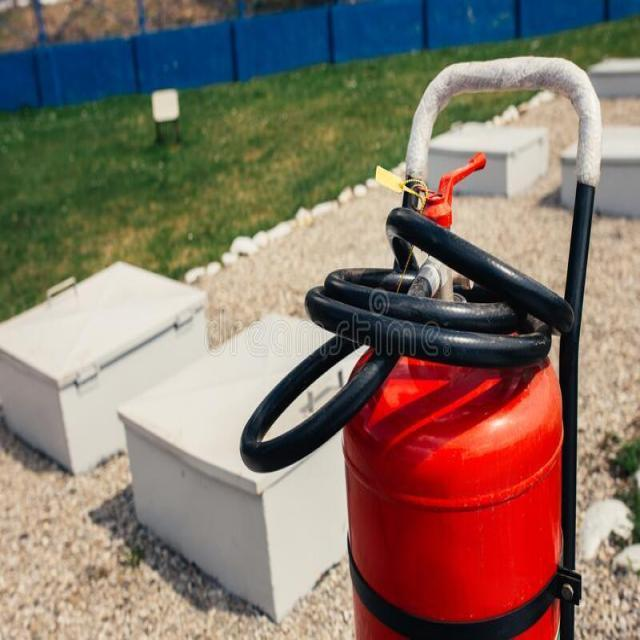fire_extinguisher: (236, 142, 580, 639)
